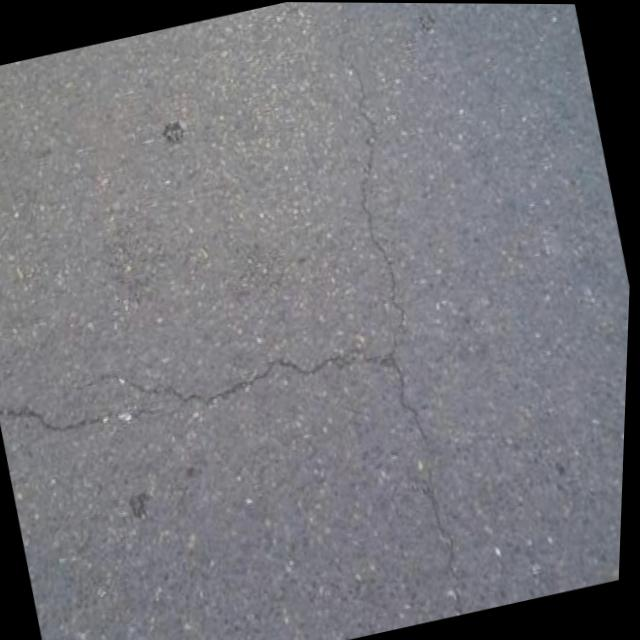Crack: (291, 2, 511, 620), (0, 306, 394, 484)
